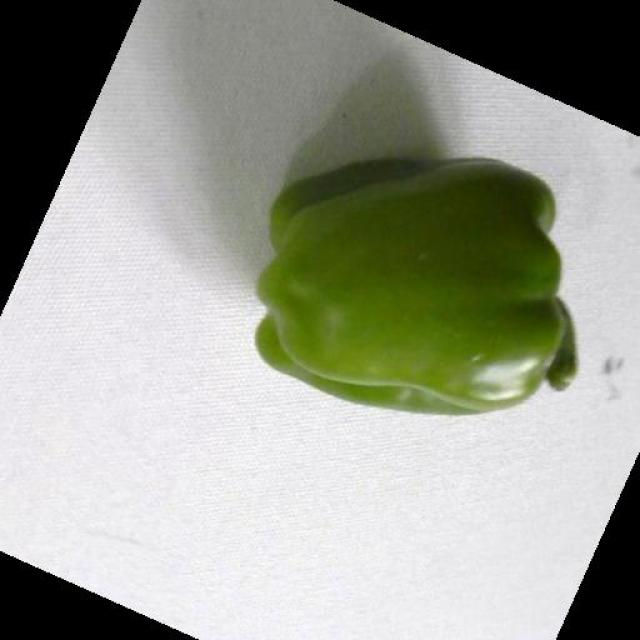Fresh_Capsicum: (271, 196, 564, 416)
